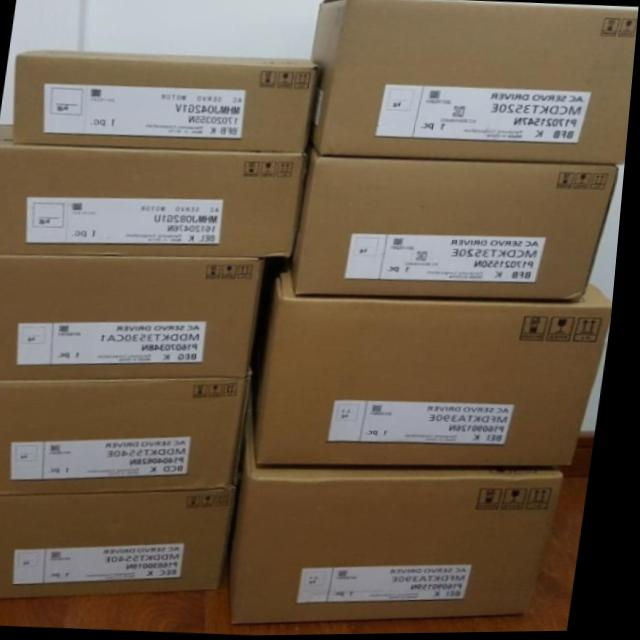box: (261, 272, 618, 467), (240, 440, 572, 626), (312, 0, 639, 165), (294, 145, 624, 303), (0, 143, 307, 259), (0, 254, 270, 381), (16, 48, 319, 155), (0, 375, 257, 495), (0, 491, 243, 599)
